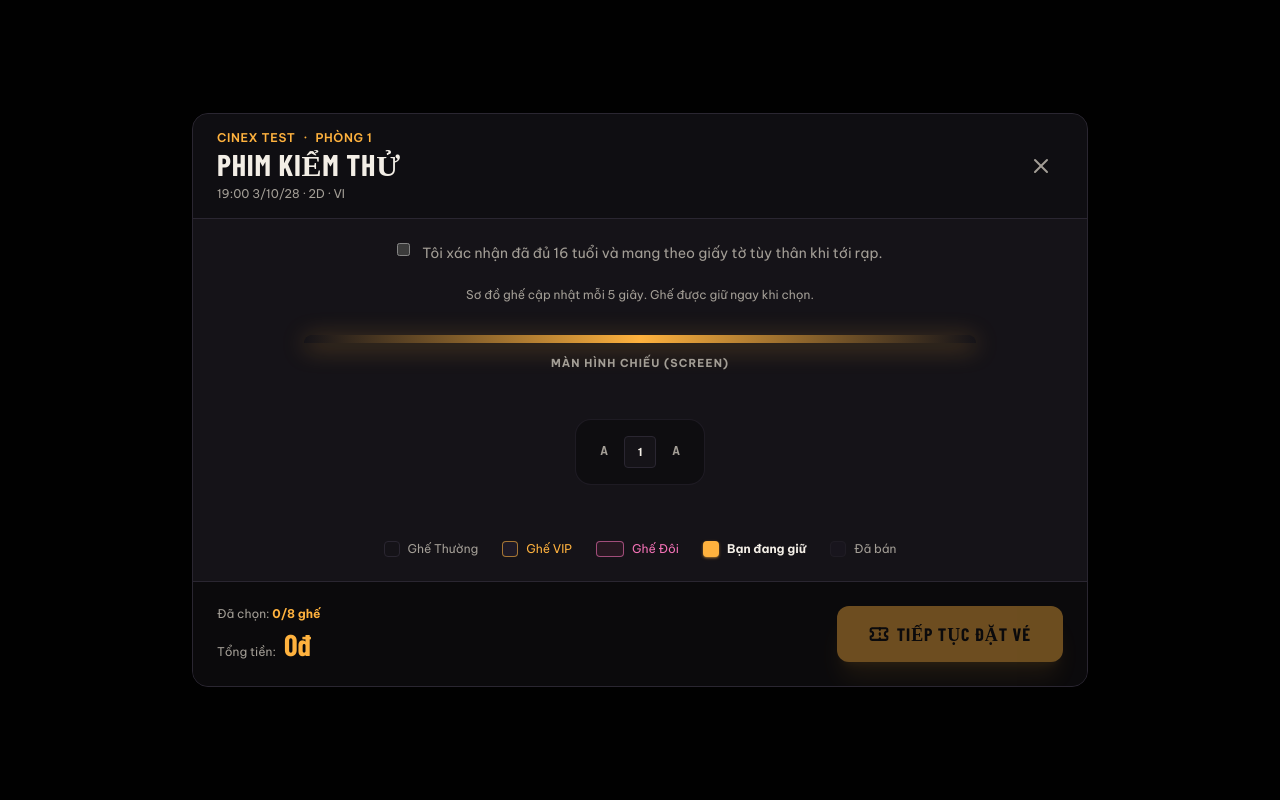
Test: Seat selection with persisted holds › does not claim a selected hold while the server is still deciding
Expected: the button named "Ghế A1 loại STANDARD" is shown, [624,436,656,468]
Click the checkbox at (404, 249), box [397,243,410,256]
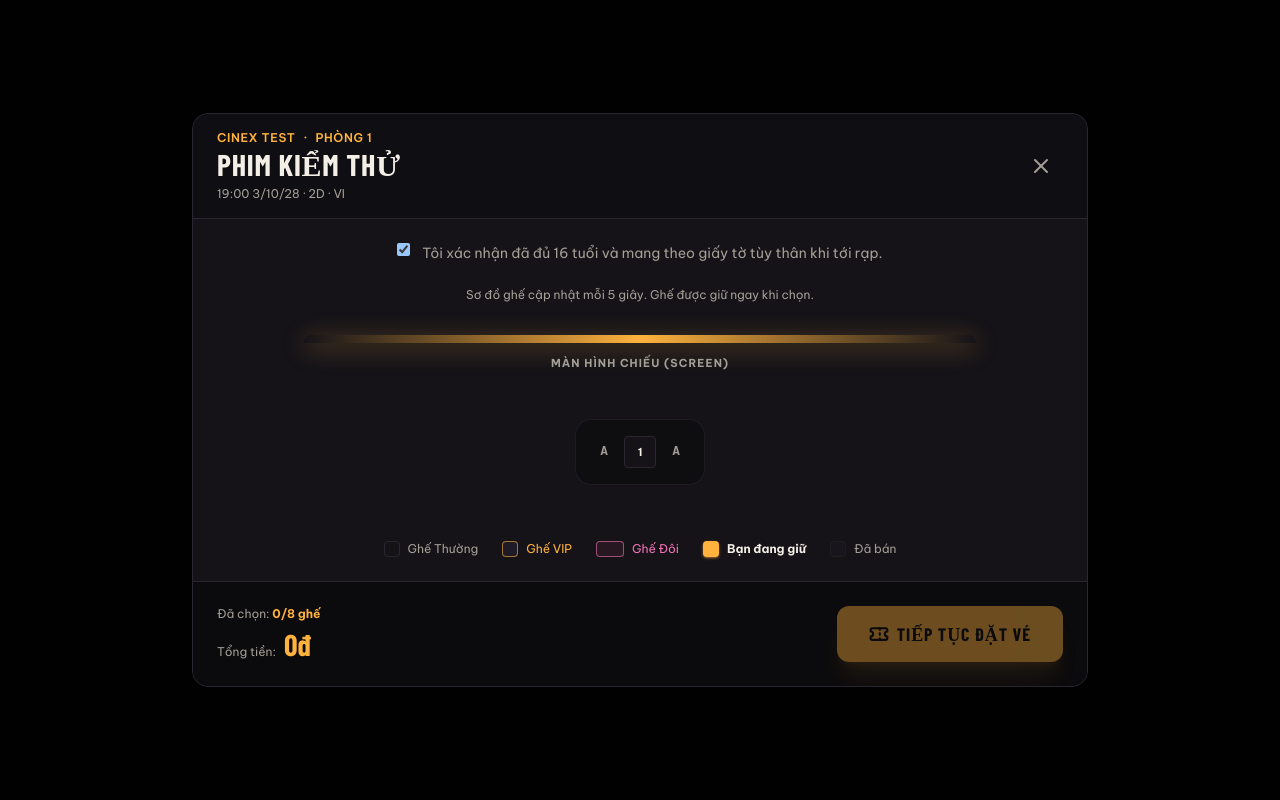
Click the button named "Ghế A1 loại STANDARD" at (640, 452), box [624,436,656,468]
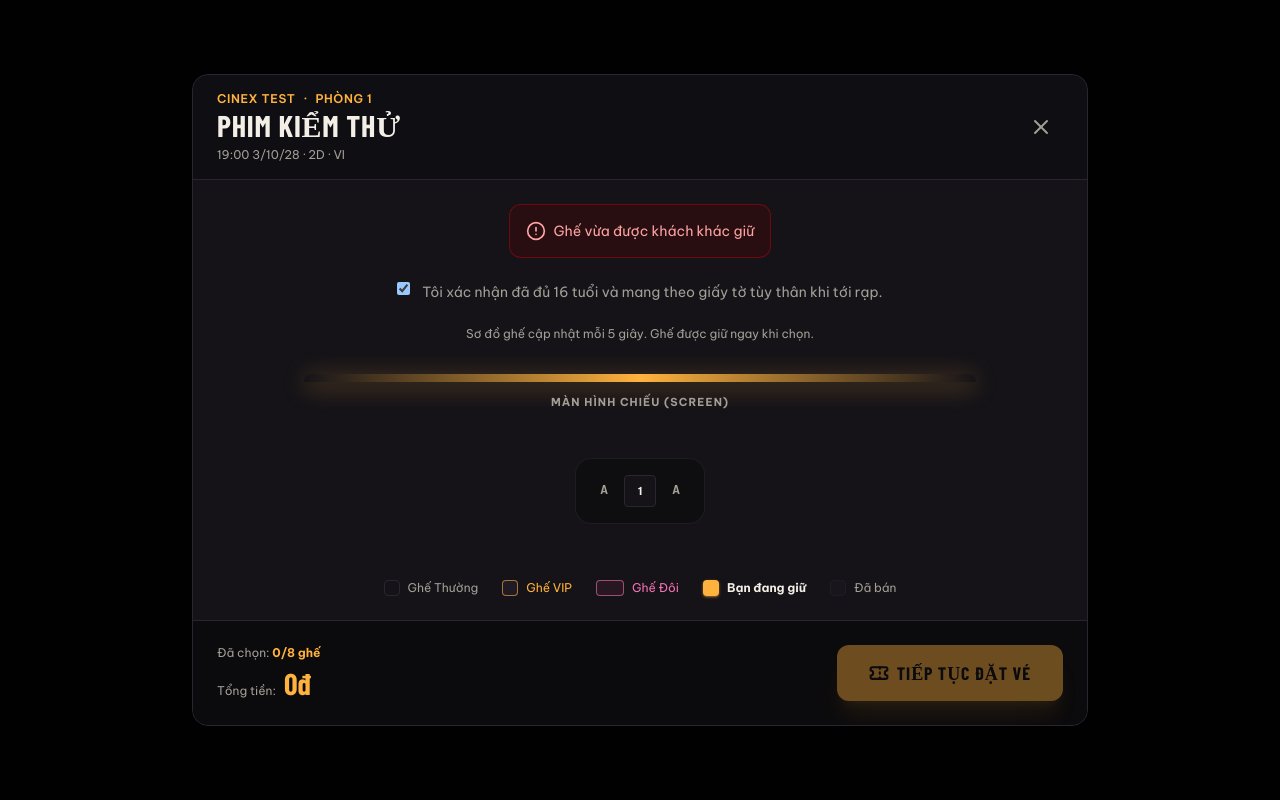
Expected: the button "TIẾP TỤC ĐẶT VÉ" is disabled, [837,645,1063,701]
Now the text "Ghế vừa được khách khác giữ" is shown, box [554,221,754,241]
